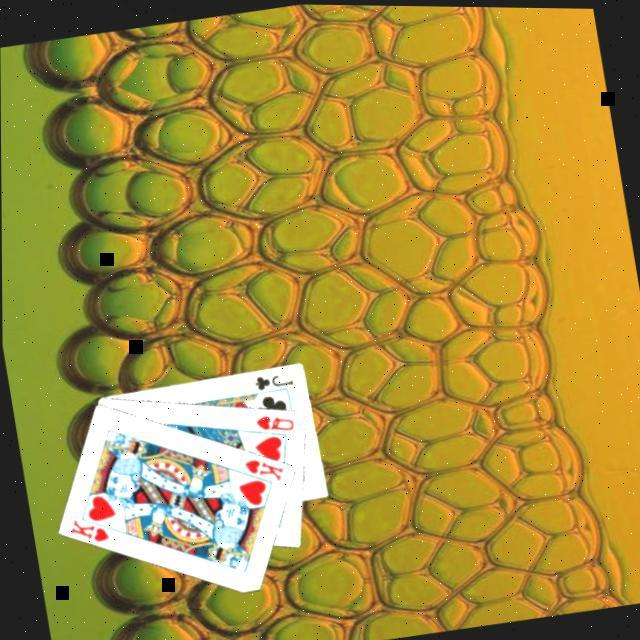JC: (251, 363, 298, 391)
KH: (66, 508, 114, 548), (242, 448, 290, 486)
QH: (252, 404, 299, 436)
